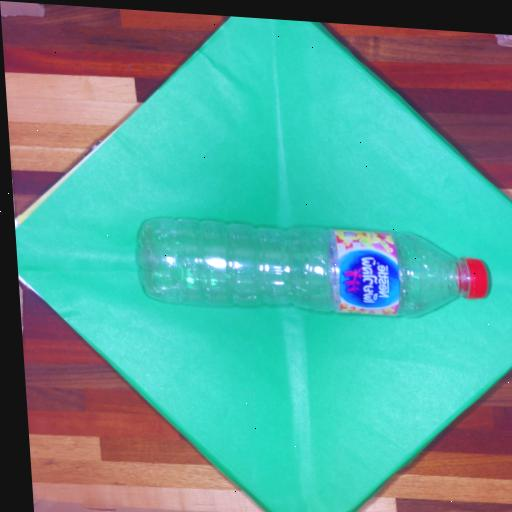bottle: (140, 219, 488, 316)
